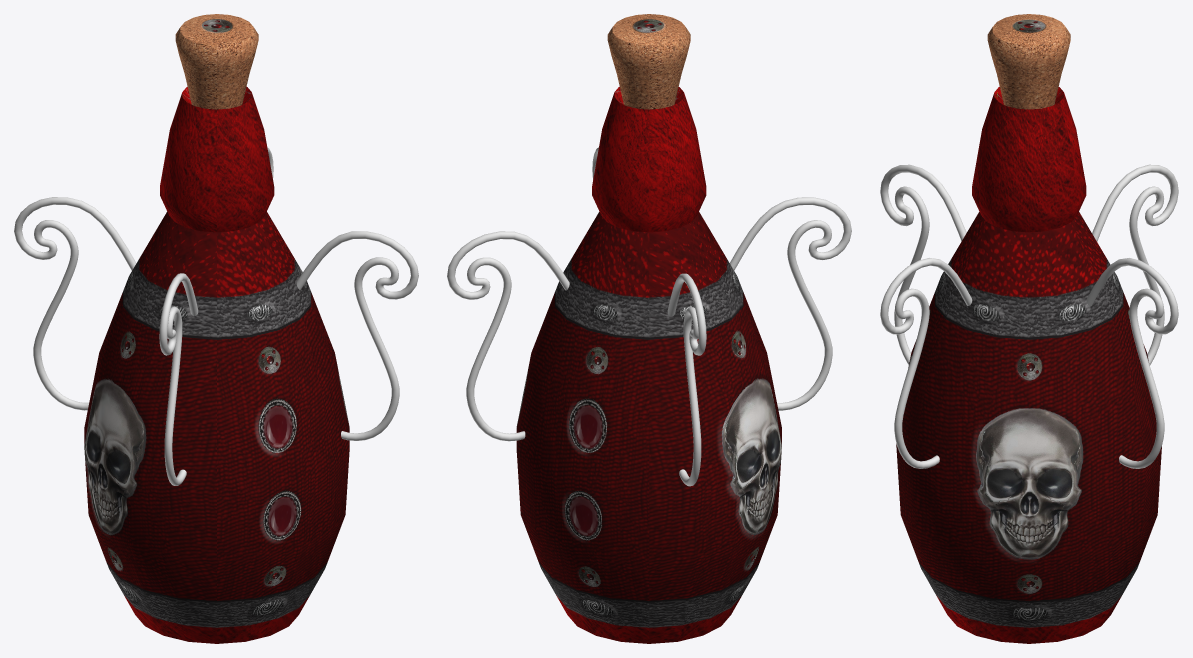
File: uploads_files_2012756_Poison+bottle.fbx
3 views of the same model, side by side, from view 1: azimuth 30°, elevation 25°; view 2: azimuth 150°, elevation 25°; view 3: azimuth 270°, elevation 25° (orthographic).
Parts seen in each view (by area): view 1: potion, Handel; view 2: potion, Handel; view 3: potion, Handel.
Part boxes in pixels (x1,y1,x2,y2): potion: (84, 14, 349, 643); Handel: (14, 147, 418, 485); potion: (516, 14, 781, 643); Handel: (447, 147, 851, 486); potion: (896, 14, 1161, 643); Handel: (880, 164, 1178, 468).
Size of the model in its own units: 146 by 314 by 146.
Materials: 1 (1 with a texture image).
